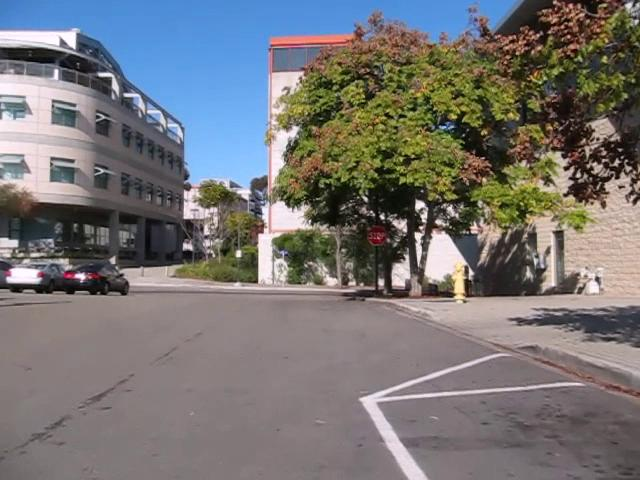stop: (366, 223, 388, 245)
